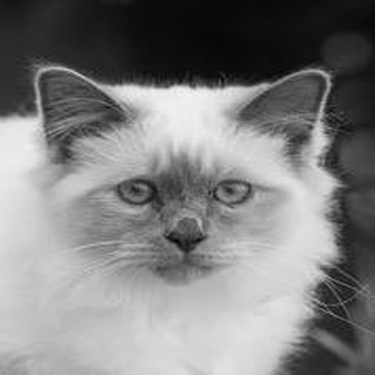cat: (29, 56, 334, 365)
